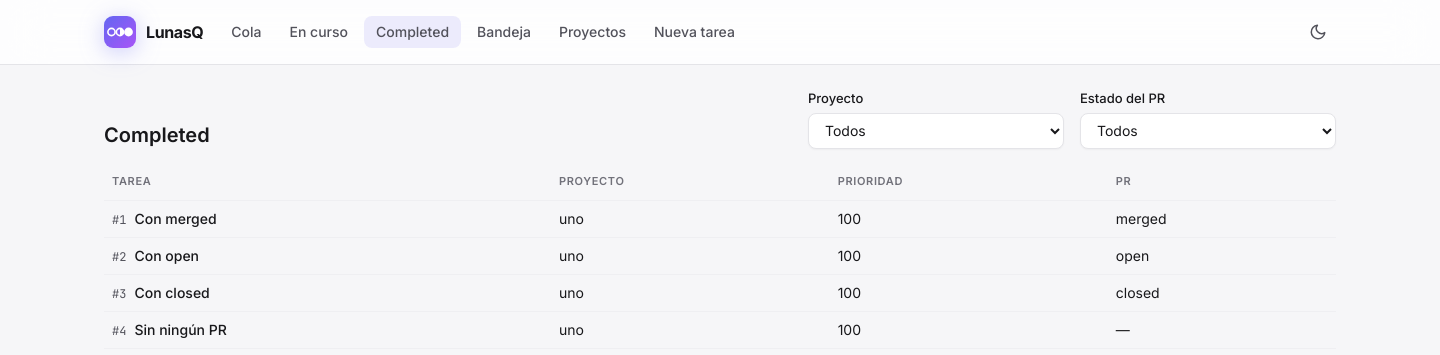
it: pestaña Completed › filtro Estado del PR › muestra solo las tareas con el estado de PR elegido
The width and height of the screenshot is (1440, 355).
Expected: the link "Con open" is shown, x1=134 y1=246 x2=199 y2=266
Select "merged" in the dropdown labelled "Estado del PR" at (1208, 130), box x1=1080 y1=112 x2=1336 y2=148
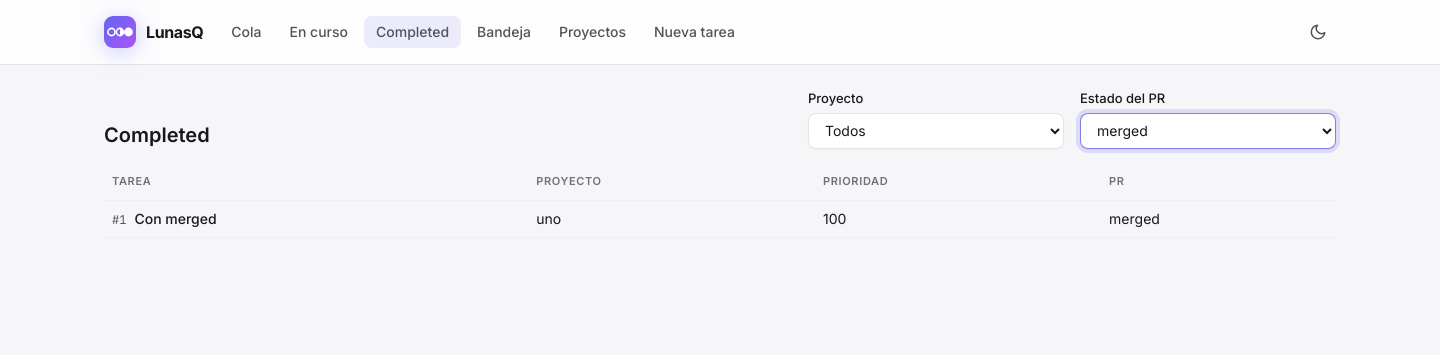
Expected: the link "Con open" is gone
Expected: the link "Con closed" is gone
Expected: the link "Sin ningún PR" is gone
